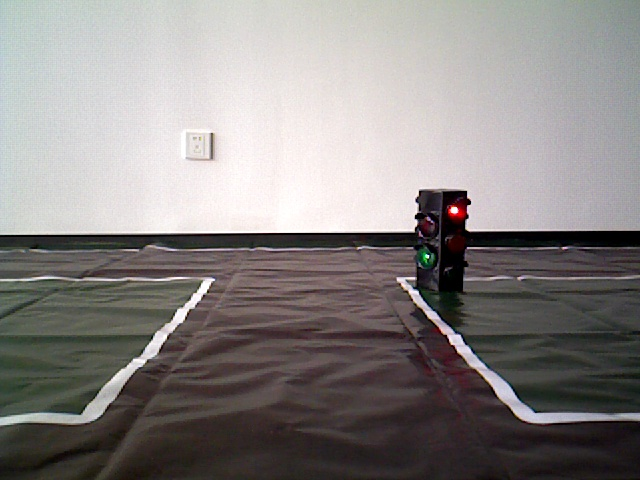red: (418, 191, 467, 297)
